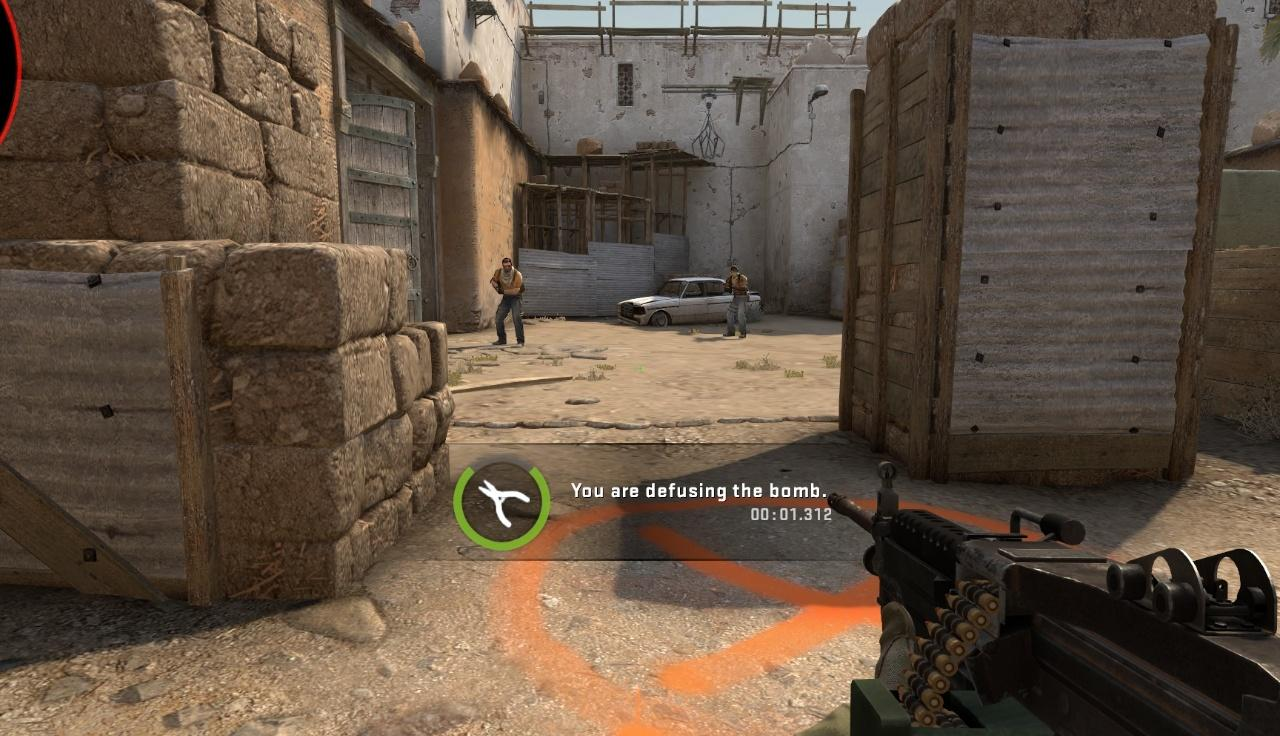rifle: (824, 462, 1280, 736)
tt: (490, 258, 524, 348), (724, 266, 749, 340)
tthead: (502, 258, 512, 272), (731, 266, 738, 276)
